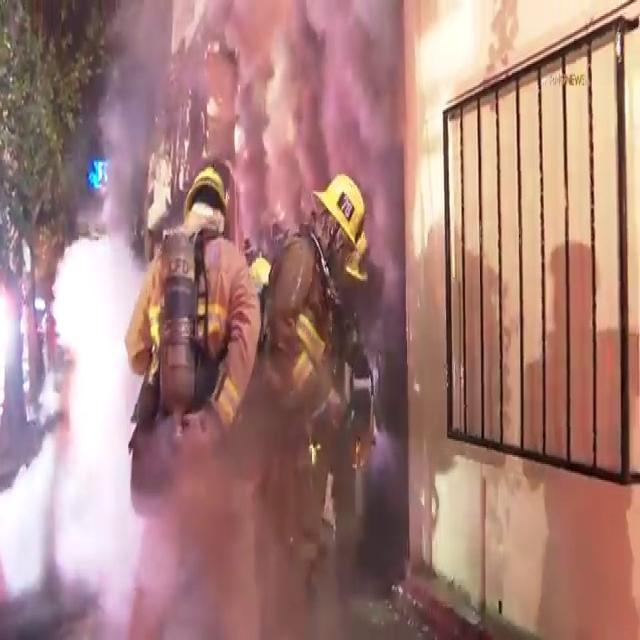Smoke: (94, 0, 401, 212), (0, 222, 155, 619), (129, 383, 330, 640)
